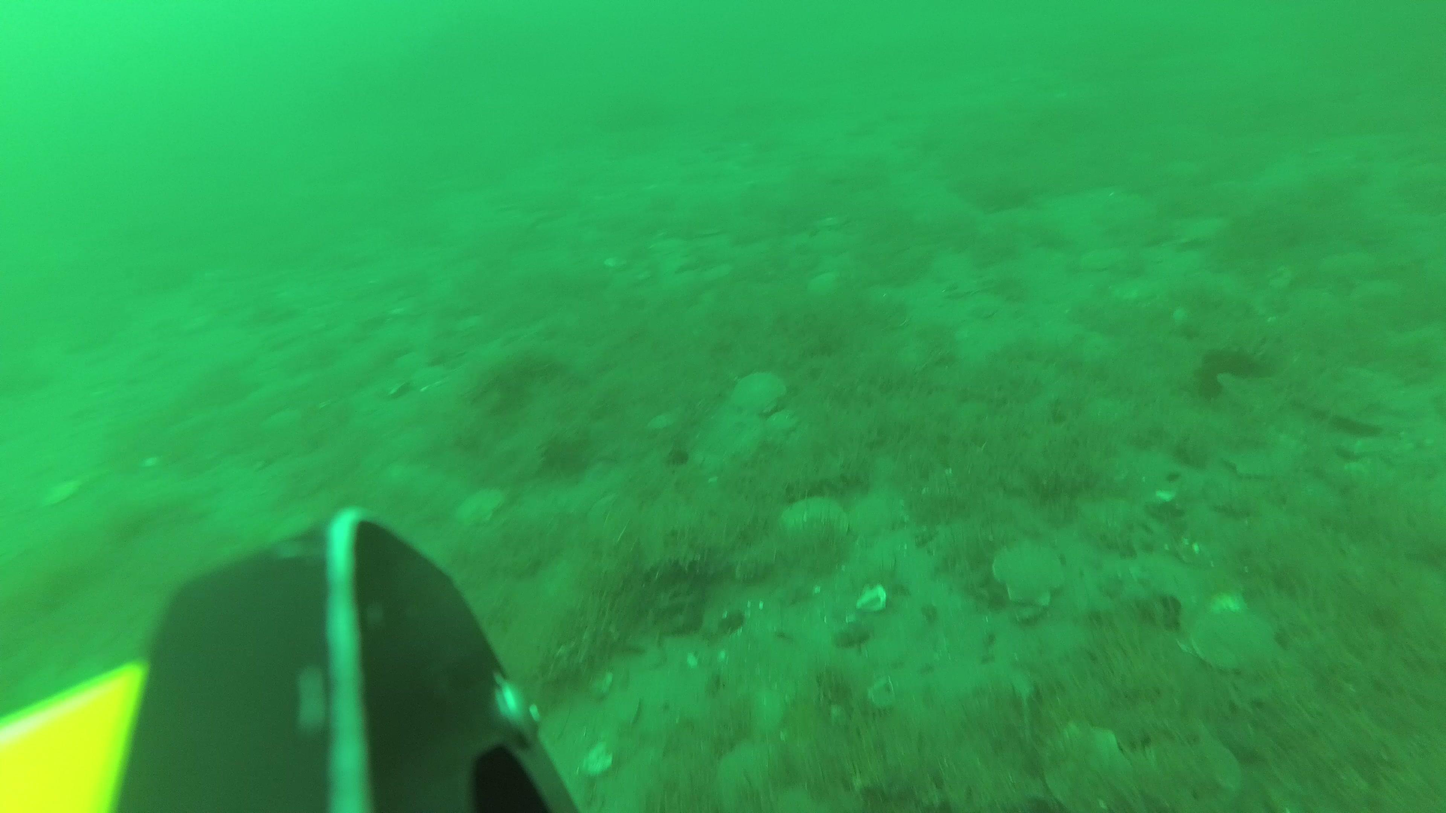scallop: (1041, 719, 1142, 813), (1144, 725, 1245, 813), (1190, 609, 1285, 677), (989, 537, 1069, 611), (775, 493, 855, 551), (1220, 429, 1298, 486), (729, 366, 793, 420), (454, 485, 510, 528)
